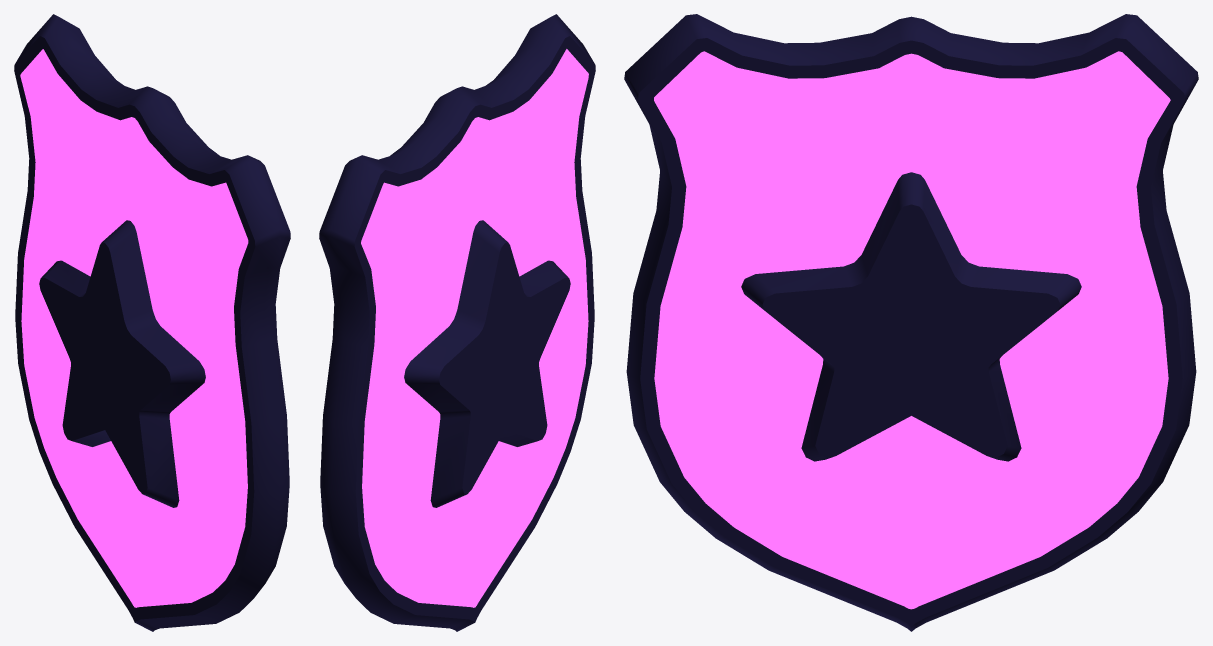
Rendered from Star.fbx.
3 renders of one model, left to right at view 1: azimuth 30°, elevation 25°; view 2: azimuth 150°, elevation 25°; view 3: azimuth 270°, elevation 25°, orthographic. The views are drawn at different scales.
Parts seen in each view (by area): view 1: Cube.116; view 2: Cube.116; view 3: Cube.116.
Boxes of the visible parts, box(x1,y1,x2,y2) form: Cube.116: box(14, 14, 290, 631); Cube.116: box(319, 14, 595, 631); Cube.116: box(624, 14, 1198, 631).
Bounding box in the file's own units: 24.26 × 134 × 113.
